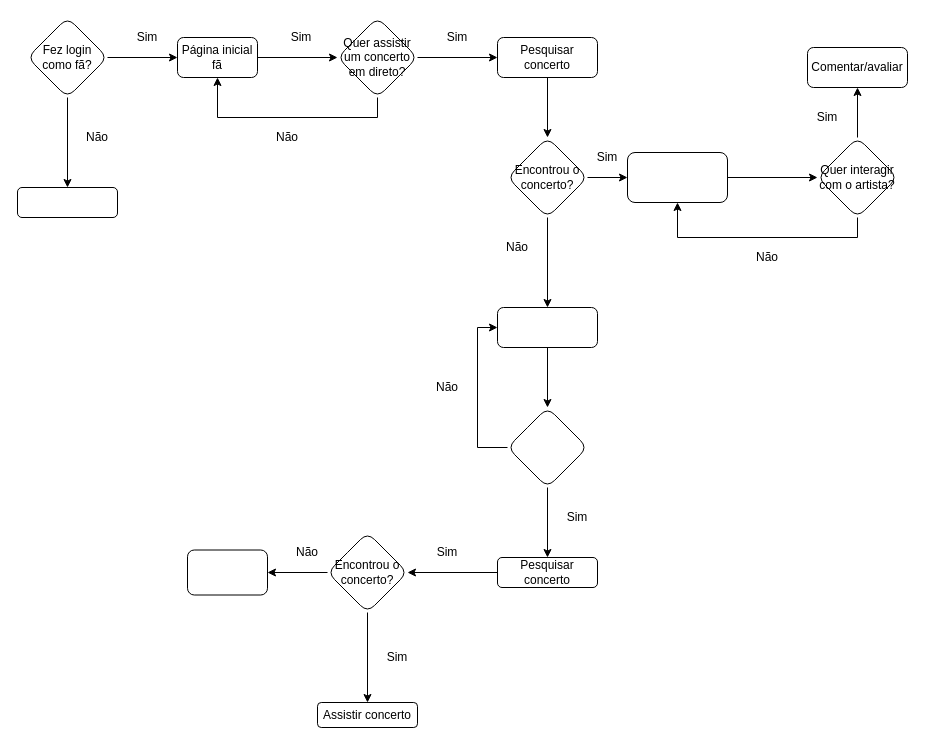
Image size: 925x745. Some labels were removed from this diagram. Each missing label, with the centre of its shape:
"Agenda" goes at [547,327].
"FAQ" goes at [227,572].
"Login/cadastro" goes at [67,202].
"Quer assistir um concerto antigo?" goes at [547,447].
"Transmissão em direto" goes at [677,177].
